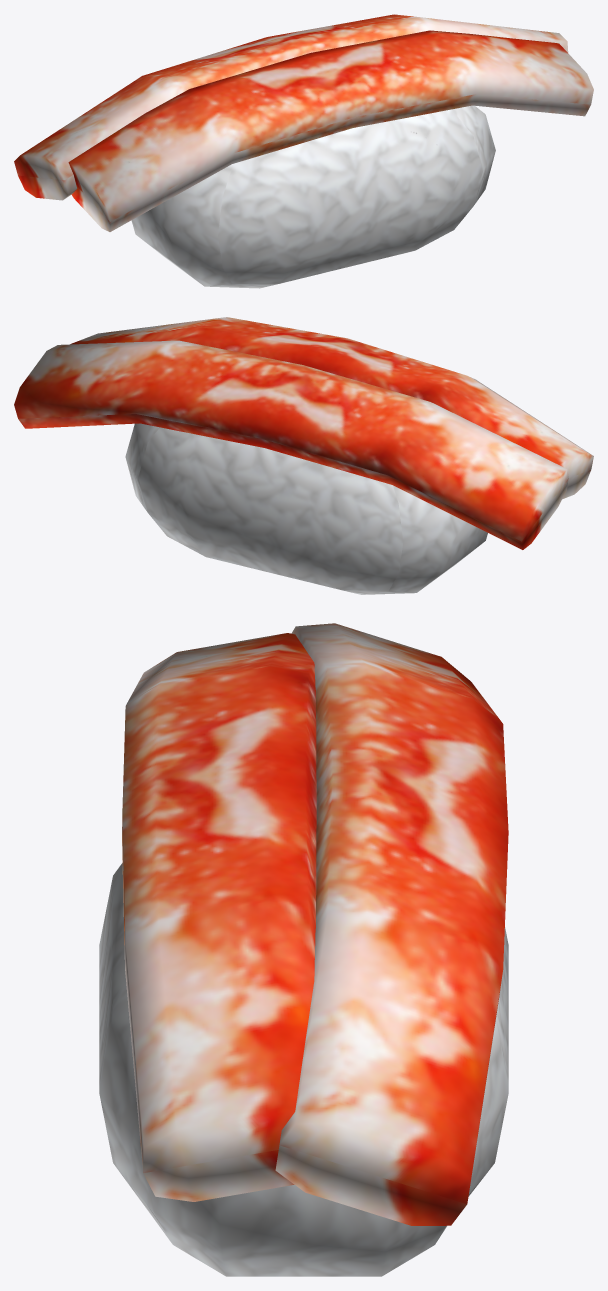
The model's file is crab.fbx.
The picture shows the model from 3 angles, top to bottom: view 1: azimuth 30°, elevation 25°; view 2: azimuth 150°, elevation 25°; view 3: azimuth 270°, elevation 25°; orthographic projection. The views are drawn at different scales.
Parts seen in each view (by area): view 1: crab; view 2: crab; view 3: crab.
Part boxes in pixels (<box>): crab: <box>14,14,593,288</box>; crab: <box>14,317,593,594</box>; crab: <box>99,623,508,1276</box>.
Bounding box in the file's own units: 9.04 × 3.48 × 3.13.
